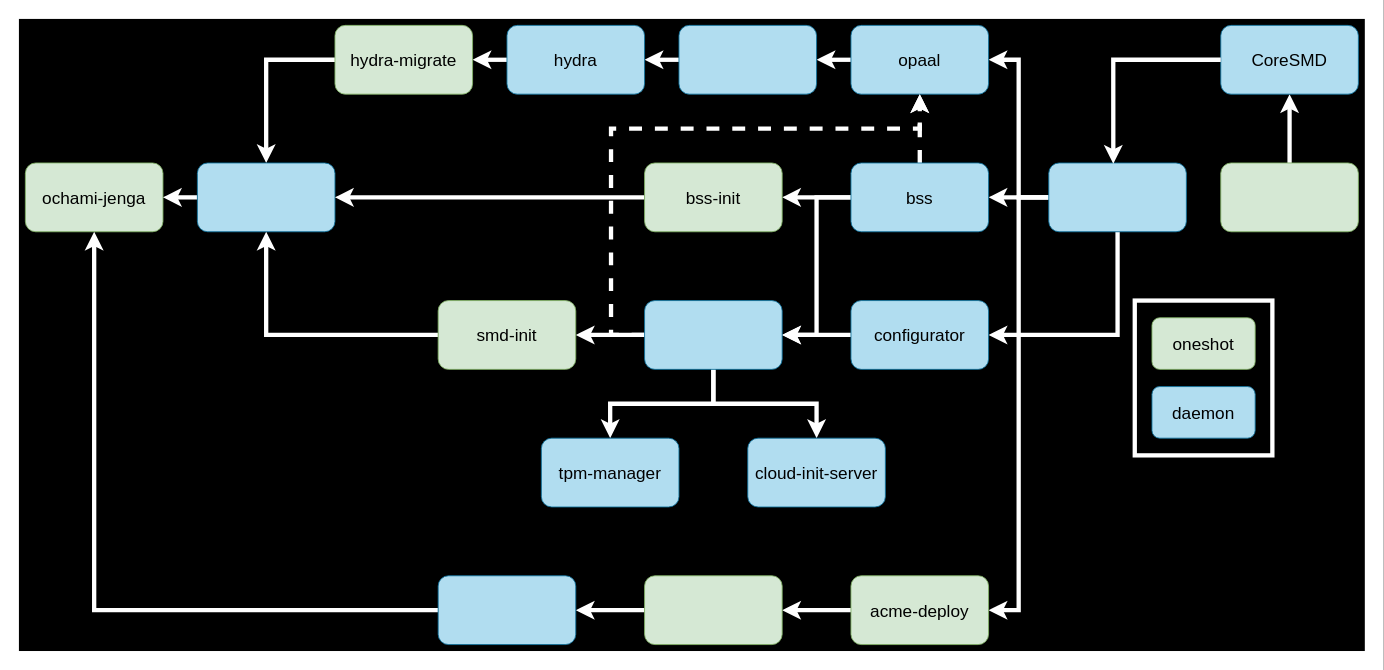
The diagram is 1384 pixels wide and 670 high, and some of its shapes have lost their labels. The shapes that lost their labels are listed below. From the top down, each one's box as (x1, y1, x2, y2) in pixels, then its label:
(678, 25, 817, 94): opaal-idp
(197, 162, 335, 232): postgres
(1048, 162, 1186, 232): haproxy
(1220, 162, 1358, 232): ochami-init
(644, 300, 782, 369): smd
(437, 575, 576, 645): step-ca
(644, 575, 782, 645): acme-register
